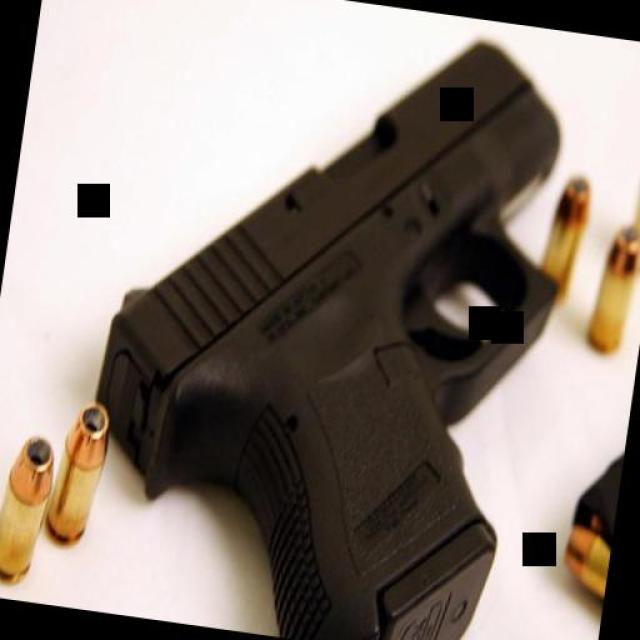gun: (65, 0, 591, 640)
